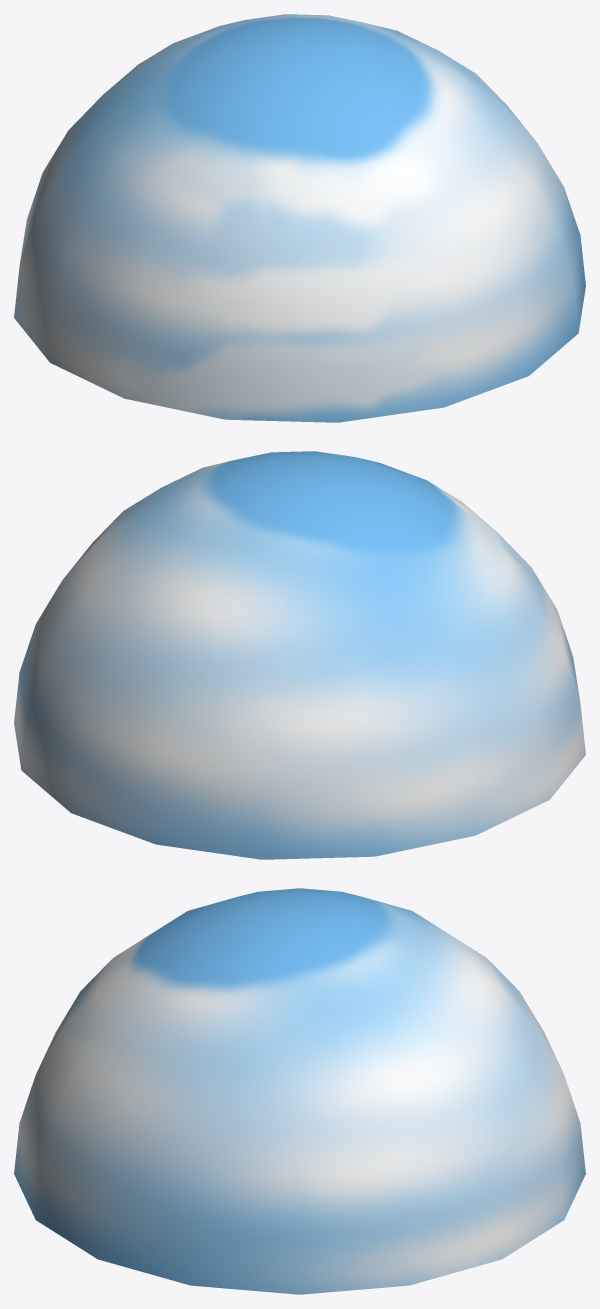
File: skybox.fbx
3 views of the same model, one above another, from view 1: azimuth 30°, elevation 25°; view 2: azimuth 150°, elevation 25°; view 3: azimuth 270°, elevation 25° (orthographic).
Visible parts, largest first — view 1: Sphere; view 2: Sphere; view 3: Sphere.
Boxes of the visible parts, bbox=[...] form: Sphere: bbox=[14, 14, 585, 422]; Sphere: bbox=[14, 451, 585, 859]; Sphere: bbox=[14, 888, 585, 1294].
Bounding box in the file's own units: 200 × 100 × 200.
